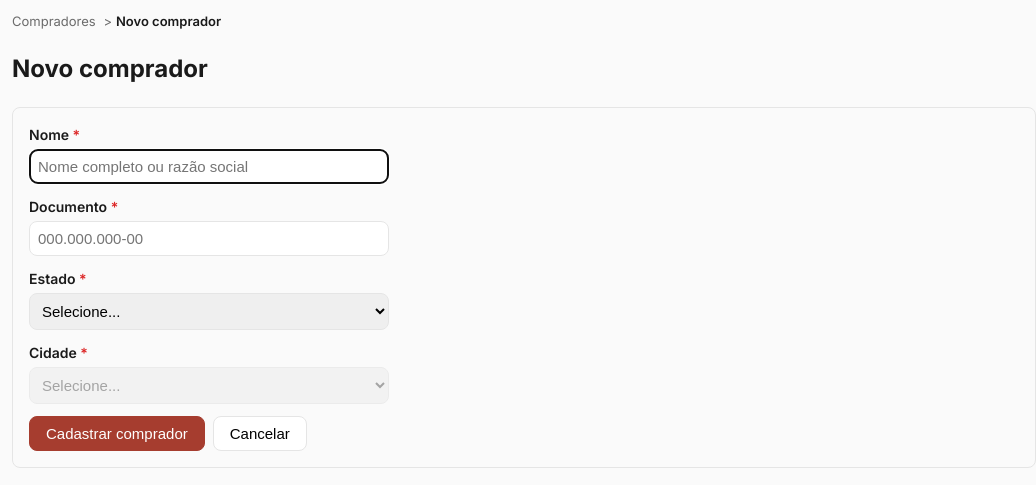
Test: CompradorFormPage - LoadingButton › mostra spinner e desabilita botão durante submissão
Expected: the heading "Novo comprador" is shown, [12,54,208,83]
In the field labelled "Nome *": [209, 167] box [29,149,389,184], type "Novo Comprador"
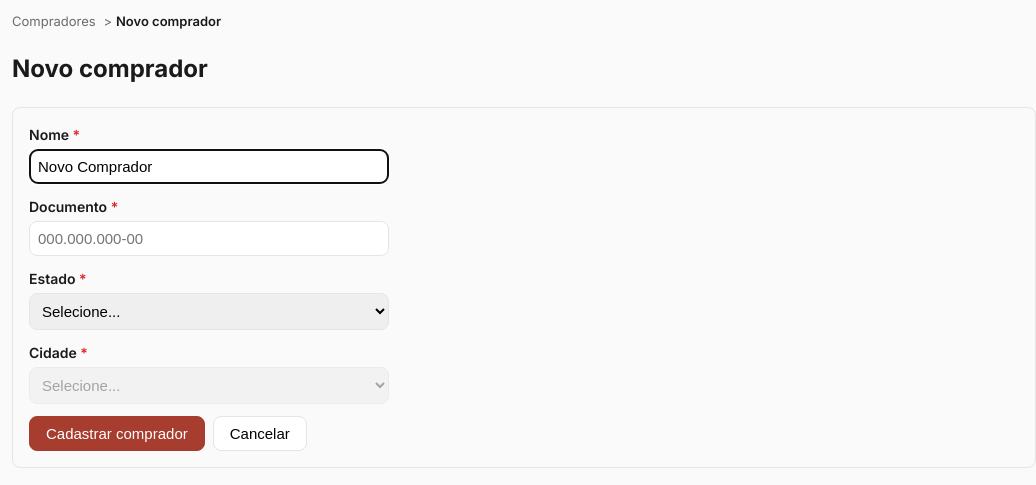
In the field labelled "Documento *": [209, 239] box [29,221,389,256], type "98765432100"
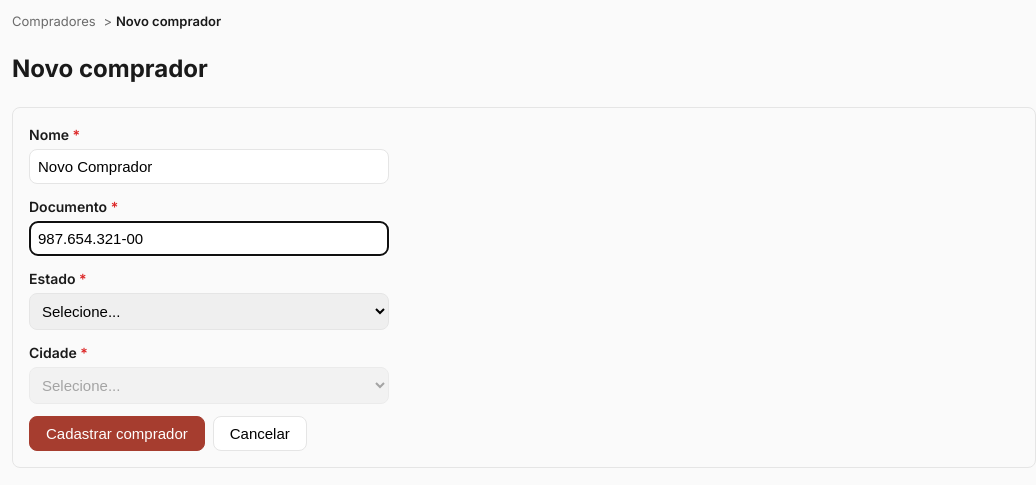
Select "São Paulo (SP)" in the dropdown labelled "Estado *": [209, 312] box [29,293,389,330]
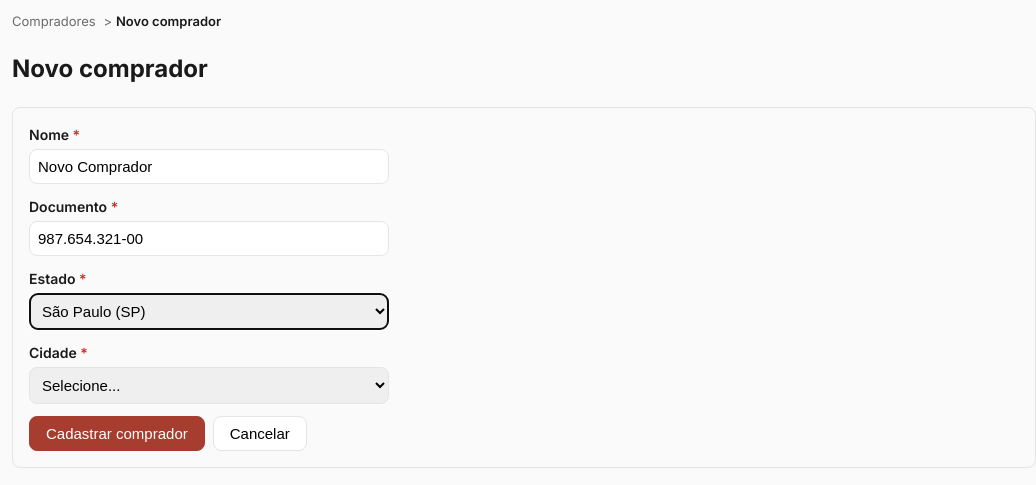
Select "São Paulo" in the dropdown labelled "Cidade *": [209, 386] box [29,367,389,404]
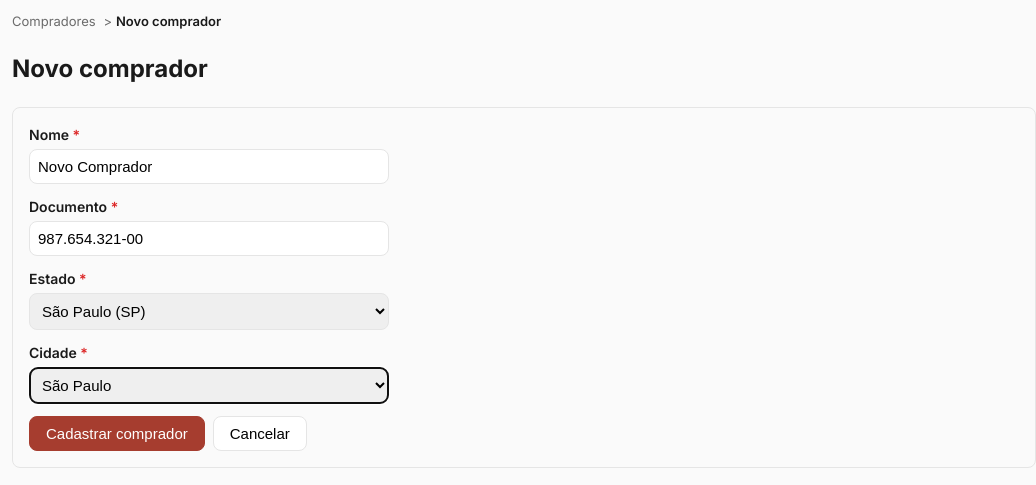
Click the button "Cadastrar comprador": [117, 434] box [29,416,205,451]
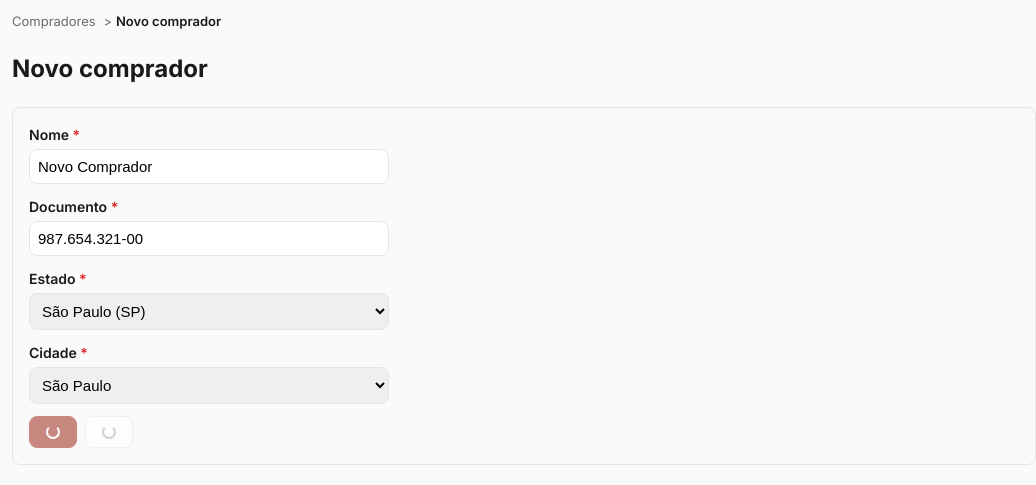
Now the 1st button named "Cadastrar comprador" is disabled, box [29,416,77,448]
Now the 1st element with class "loading-button__spinner" is shown, box [46,425,60,439]
